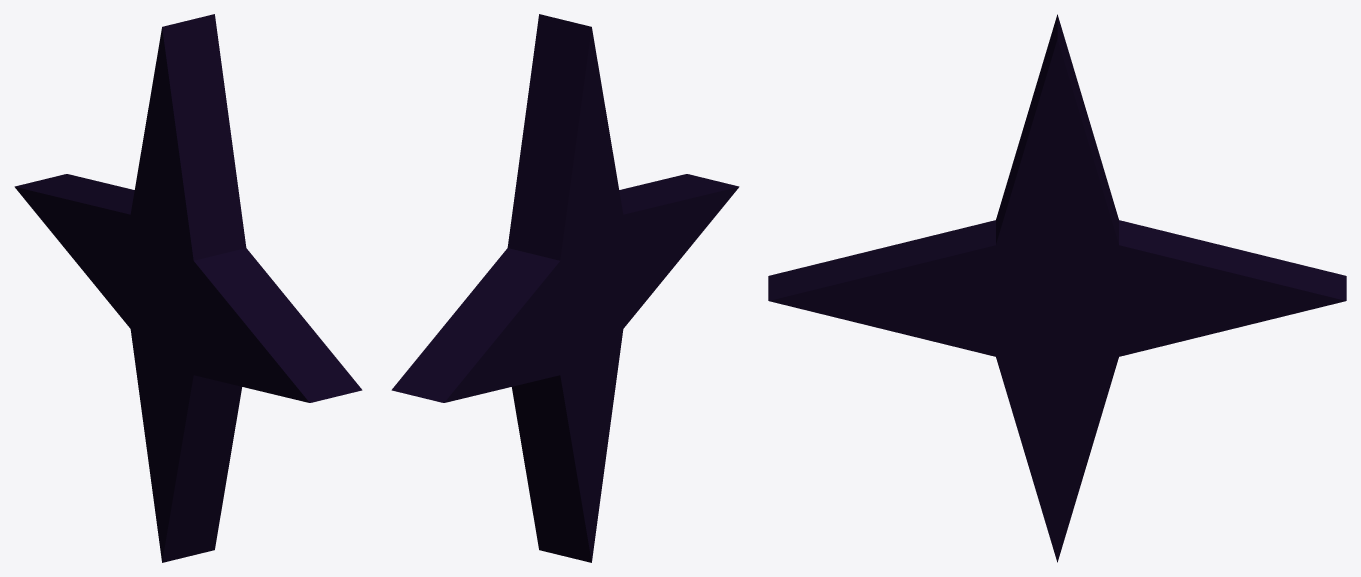
File: VFX_Shuriken.fbx
3 renders of one model, left to right at view 1: azimuth 30°, elevation 25°; view 2: azimuth 150°, elevation 25°; view 3: azimuth 270°, elevation 25°, orthographic. The views are drawn at different scales.
Parts seen in each view (by area): view 1: Cylinder; view 2: Cylinder; view 3: Cylinder.
Part boxes in pixels (x1,y1,x2,y2): Cylinder: (14, 14, 362, 562); Cylinder: (391, 14, 739, 562); Cylinder: (768, 14, 1346, 562).
Bounding box in the file's own units: 0.2057 × 2 × 2.
